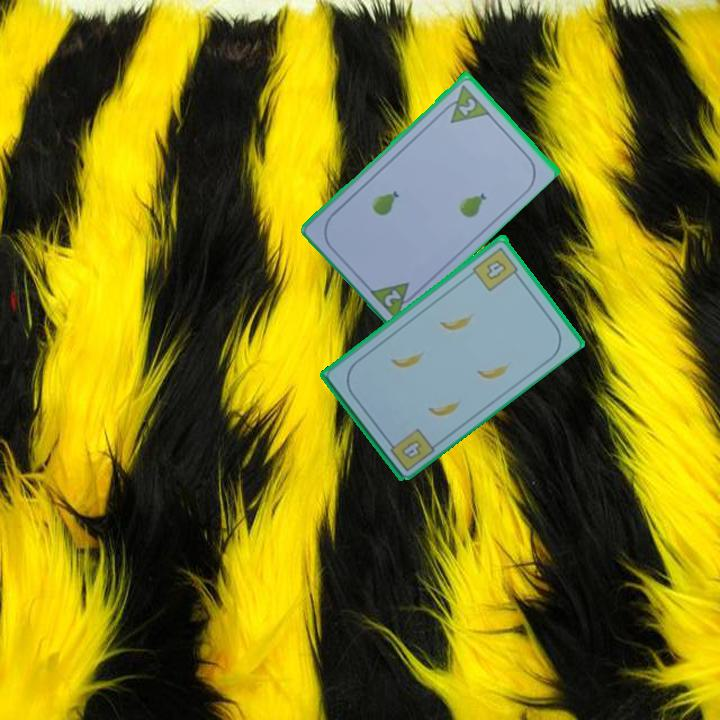2p: (438, 80, 491, 126), (380, 285, 404, 309)
4b: (469, 243, 523, 294), (382, 424, 437, 474)
